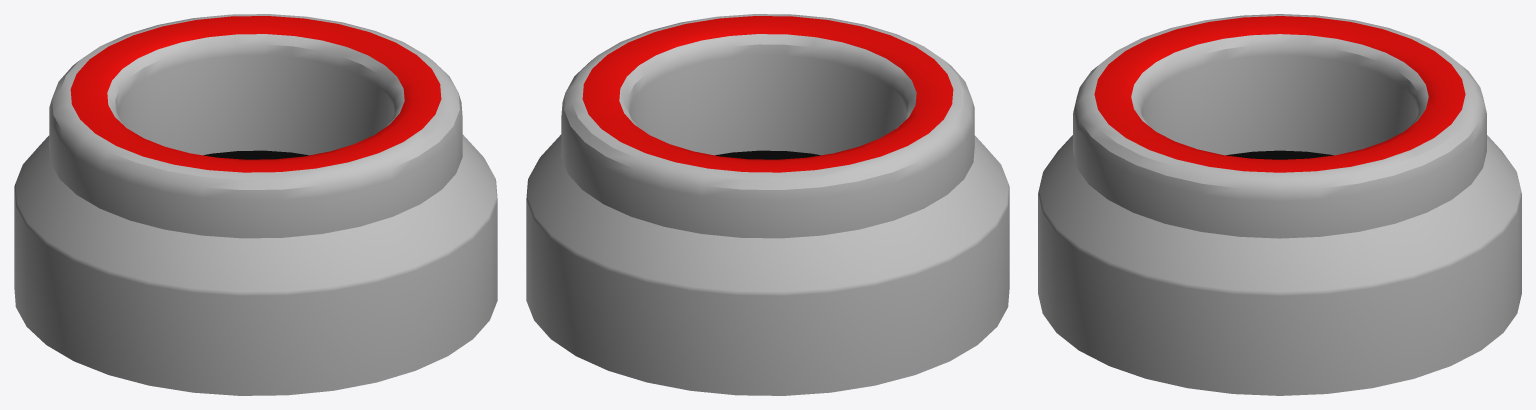
File: PlugFemale_01.fbx
3 renders of one model, left to right at view 1: azimuth 30°, elevation 25°; view 2: azimuth 150°, elevation 25°; view 3: azimuth 270°, elevation 25°, orthographic.
Parts seen in each view (by area): view 1: Cylinder.012; view 2: Cylinder.012; view 3: Cylinder.012.
Boxes of the visible parts, x1,y1,x2,y2 form: Cylinder.012: (14,14,497,395); Cylinder.012: (526,14,1009,395); Cylinder.012: (1038,14,1521,395).
Size of the model in its own units: 26.7 by 12.14 by 26.7.
